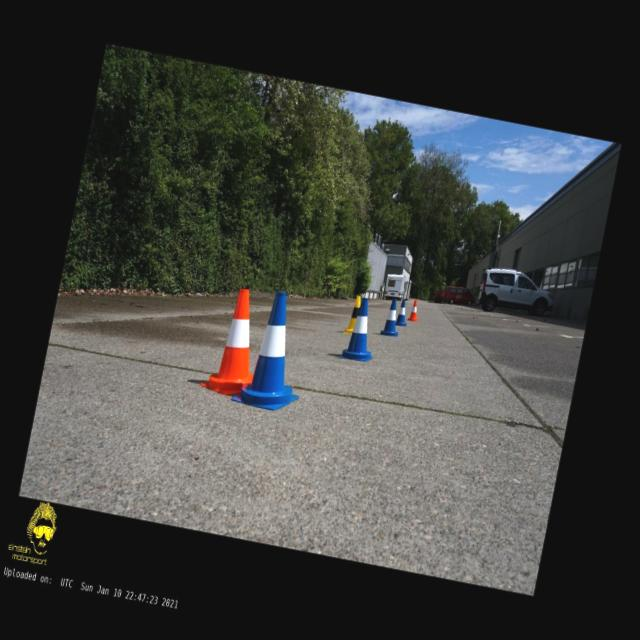blue_cone: (230, 286, 318, 414), (339, 294, 384, 364), (380, 297, 406, 338), (396, 300, 412, 327)
orange_cone: (198, 284, 268, 400), (408, 299, 422, 323)
yellow_cone: (342, 294, 362, 336)
